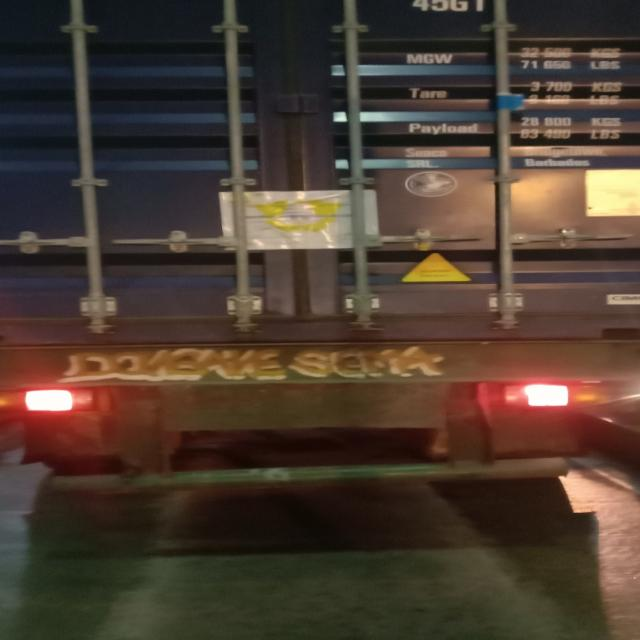seal: (414, 236, 435, 249)
